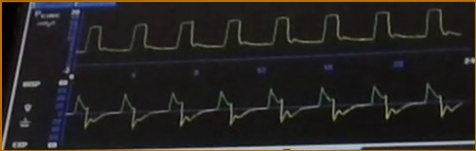Premature_cycling Flow: (70, 80, 464, 139)
